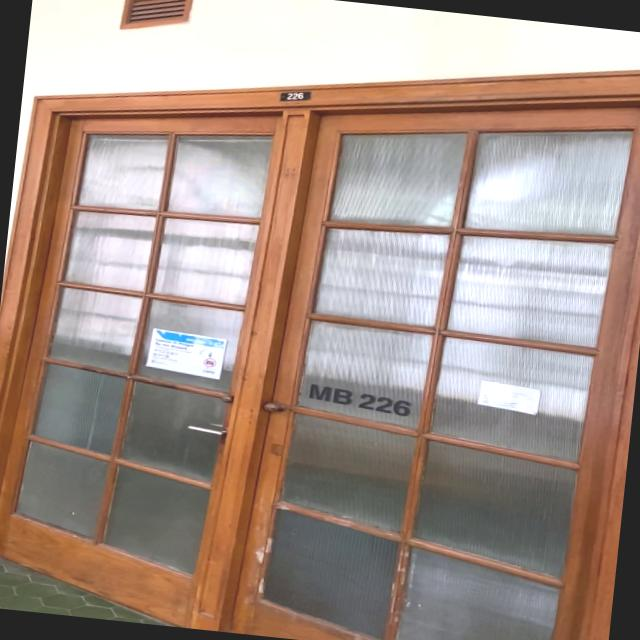room226: (278, 86, 314, 105)
room226Window: (302, 378, 418, 418)
